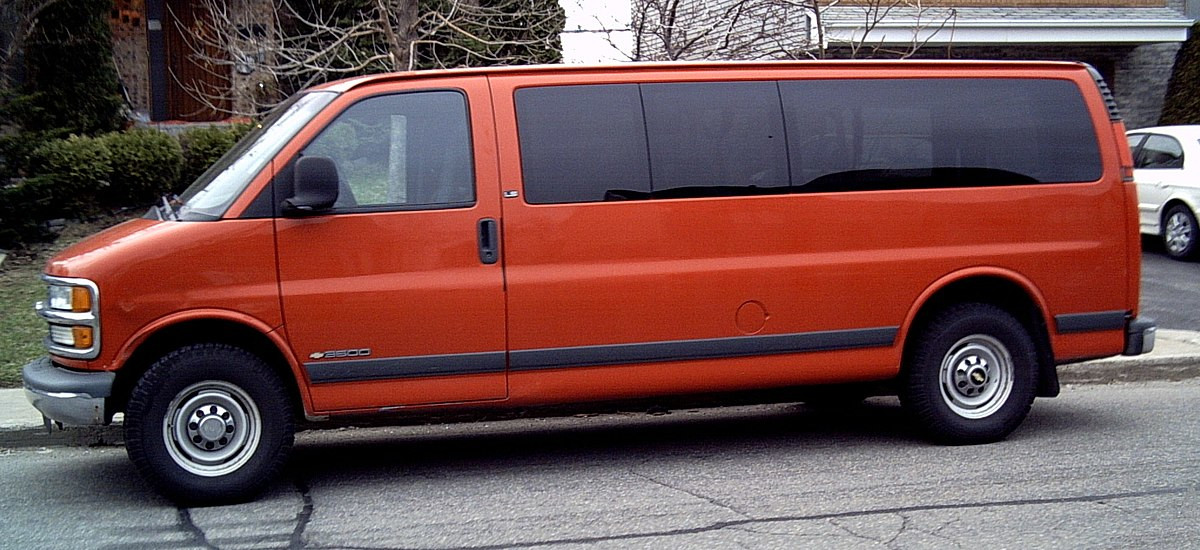van: (20, 57, 1157, 504)
